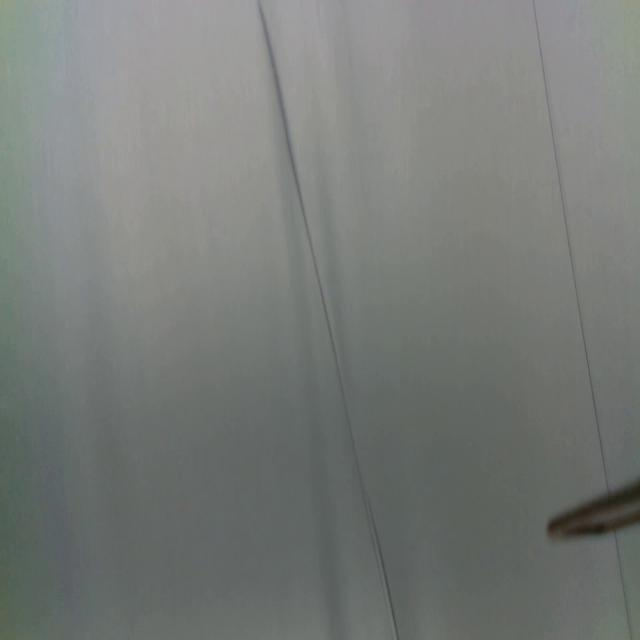crease: (258, 0, 401, 640), (533, 0, 609, 492), (614, 531, 633, 640)
